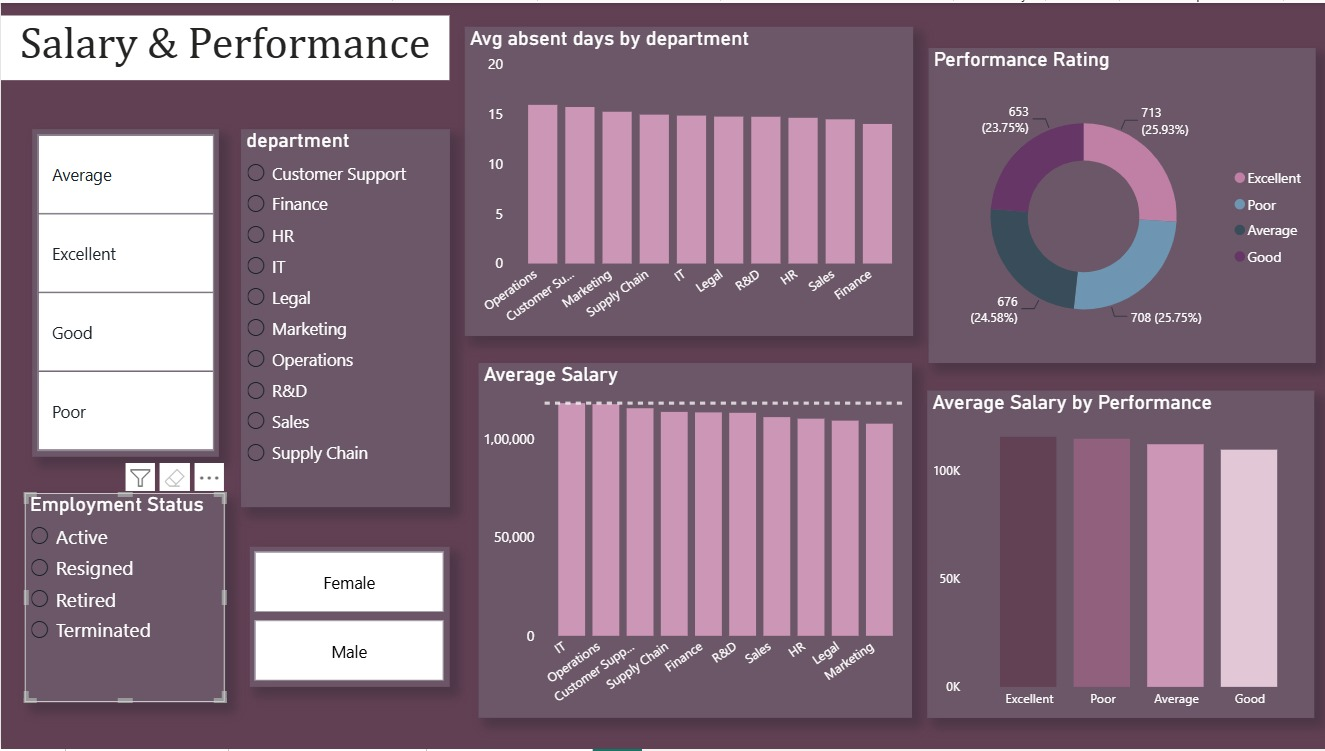

This screenshot's page, from the dashboard's own definition file:
{"tool":"powerbi","page":{"name":"Salary & Performance","canvas":[1280,720],"ordinal":2},"visuals":[{"type":"textbox","box":[0,12.5,432.5,62.5],"z":0},{"type":"clusteredColumnChart","title":"Average Salary","fields":{"Category":["hr employees.department"],"Y":["hr employees.Average Salary"]},"box":[461.2,347.5,418.8,342.5],"z":1000},{"type":"donutChart","title":"Performance Rating","fields":{"Category":["hr employees.performance_rating"],"Y":["hr employees.Total Employees"]},"box":[895,43.8,373.8,303.8],"z":2000},{"type":"clusteredColumnChart","title":"Average Salary by Performance","fields":{"Category":["hr employees.performance_rating"],"Y":["hr employees.Average Salary"]},"box":[893.8,373.8,373.8,316.2],"z":3000},{"type":"clusteredColumnChart","title":"Avg absent days by department","fields":{"Category":["hr employees.department"],"Y":["Avg(hr employees.absent_days)"]},"box":[447.5,22.5,432.5,298.8],"z":4000},{"type":"listSlicer","fields":{"Values":["hr employees.department"]},"box":[231.2,121.2,201.2,365],"z":5000},{"type":"advancedSlicerVisual","fields":{"Values":["hr employees.gender"]},"box":[240,525,192.5,135],"z":6000},{"type":"advancedSlicerVisual","fields":{"Values":["hr employees.performance_rating"]},"box":[30,121.2,180,316.2],"z":7000},{"type":"listSlicer","title":"Employment Status","fields":{"Values":["hr employees.employment_status"]},"box":[22.5,472.5,193.8,202.5],"z":8000}]}

Visuals, with their boxes in screenshot pixels (x1, y1, x2, y2), scaled from the page's 1280x720 canvas onto the 1325x751 screenshot:
textbox: 0/13/448/78
"Average Salary" clusteredColumnChart: 477/362/911/720
"Performance Rating" donutChart: 926/46/1313/363
"Average Salary by Performance" clusteredColumnChart: 925/390/1312/720
"Avg absent days by department" clusteredColumnChart: 463/23/911/335
listSlicer - hr employees.department: 239/126/448/507
advancedSlicerVisual - hr employees.gender: 248/548/448/688
advancedSlicerVisual - hr employees.performance_rating: 31/126/217/456
"Employment Status" listSlicer: 23/493/224/704
